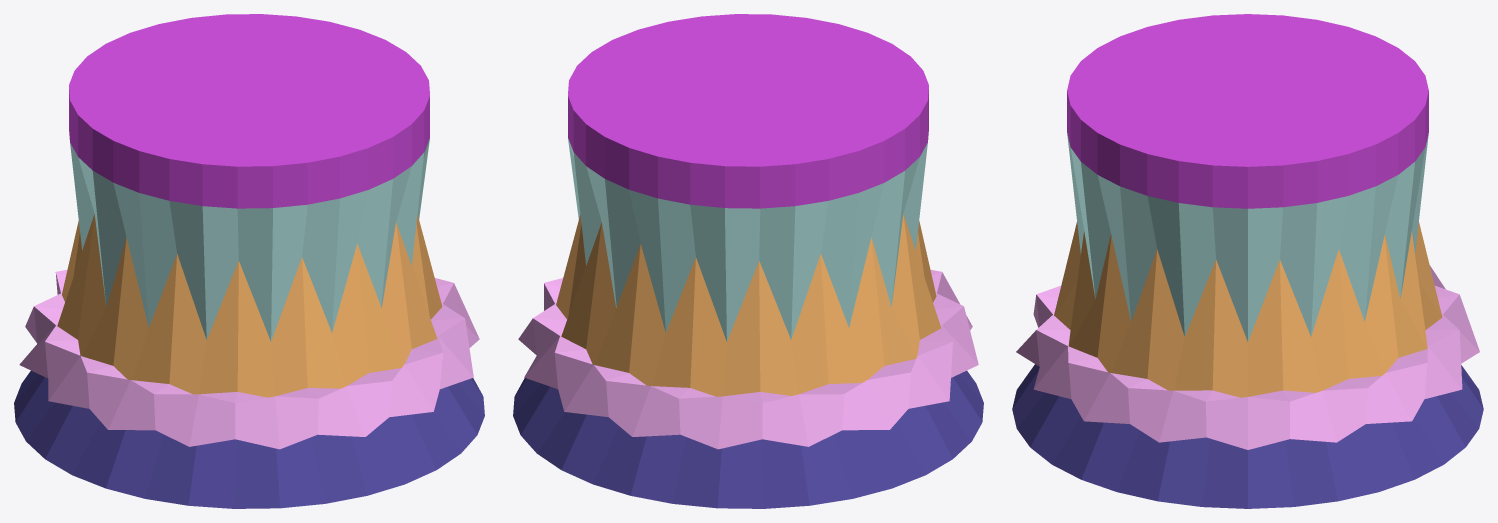
The model's file is towerBaseEn.fbx.
3 views of the same model, side by side, from view 1: azimuth 30°, elevation 25°; view 2: azimuth 150°, elevation 25°; view 3: azimuth 270°, elevation 25° (orthographic).
Parts seen in each view (by area): view 1: Cylinder; view 2: Cylinder; view 3: Cylinder.
Part boxes in pixels (left/top/right/bottom): Cylinder: left=14, top=14, right=484, bottom=508; Cylinder: left=513, top=14, right=983, bottom=508; Cylinder: left=1012, top=14, right=1483, bottom=508.
Size of the model in its own units: 261 by 194 by 261.
